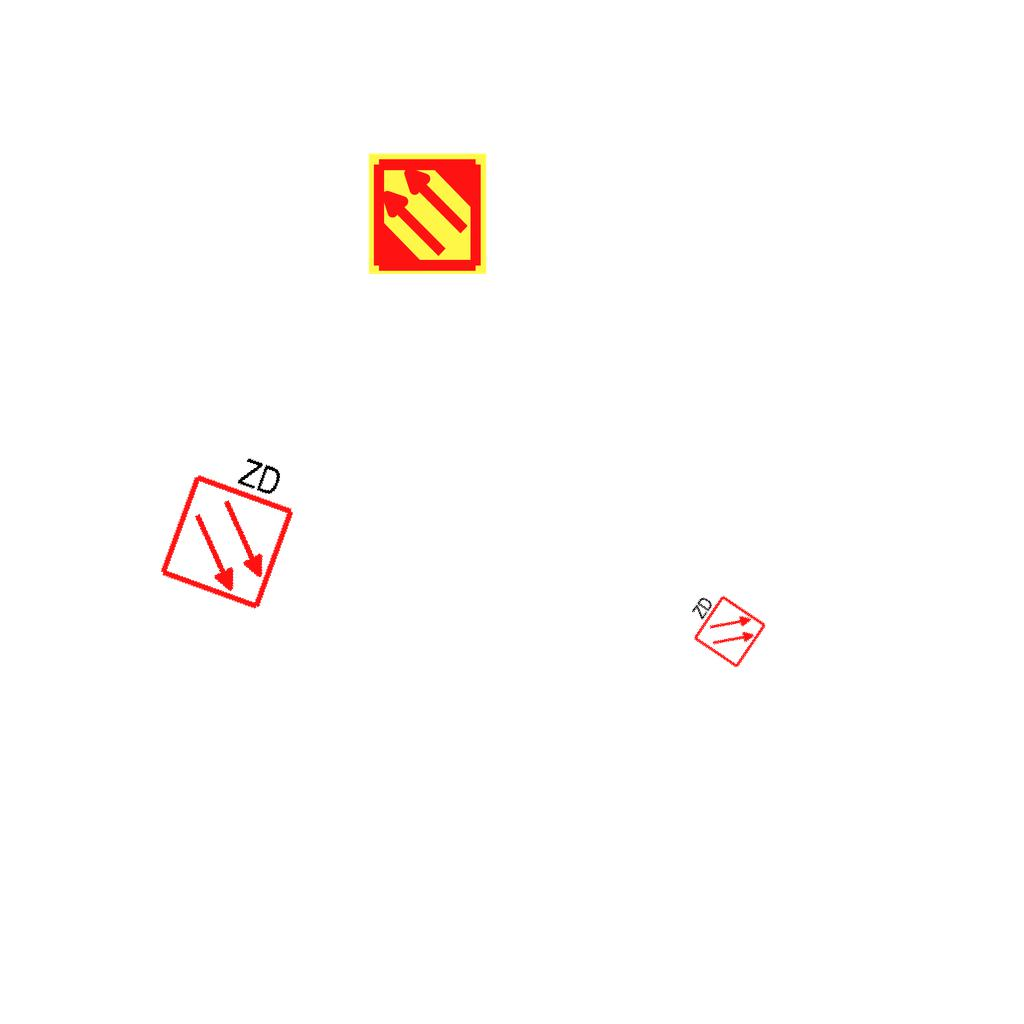ASR_Ansaugrauchmelder: (365, 151, 490, 276)
ZD_Melder_in_Zwischendecke_mit_Revisionsoeffnung_mind_40_x_40_cm: (152, 433, 312, 614), (674, 582, 769, 672)
